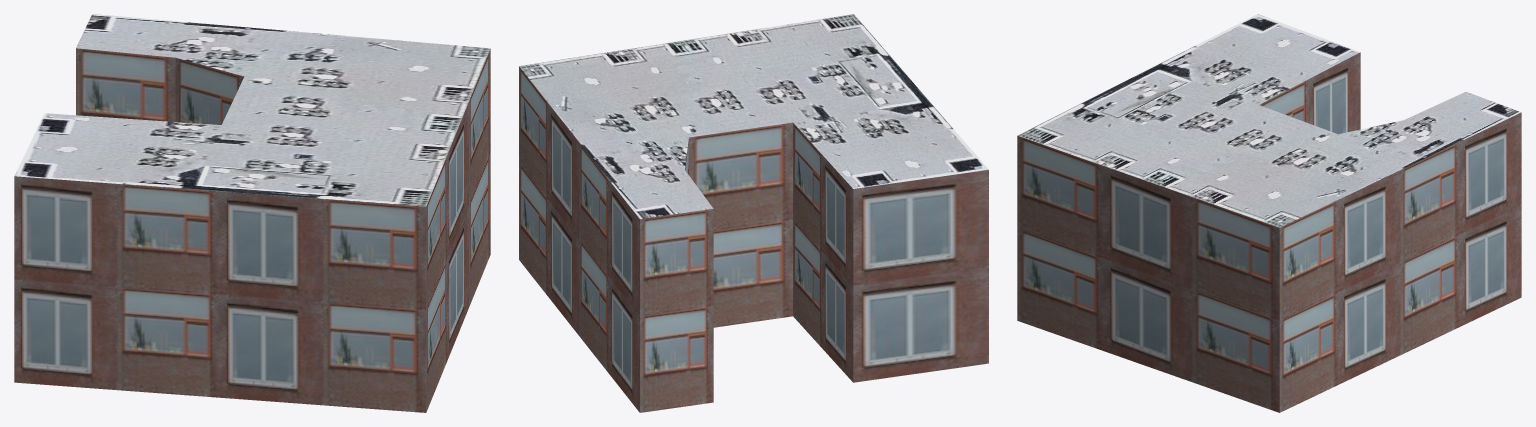
Rendered from ResTex__5294.fbx.
The picture shows the model from 3 angles, left to right: view 1: azimuth 30°, elevation 25°; view 2: azimuth 150°, elevation 25°; view 3: azimuth 270°, elevation 25°; orthographic projection. The views are drawn at different scales.
Parts seen in each view (by area): view 1: CityEngineMaterial_19_m, CityEngineMaterial_4_m; view 2: CityEngineMaterial_19_m, CityEngineMaterial_4_m; view 3: CityEngineMaterial_19_m, CityEngineMaterial_4_m.
Boxes of the visible parts, bbox=[...] form: CityEngineMaterial_19_m: bbox=[14, 48, 490, 412]; CityEngineMaterial_4_m: bbox=[14, 14, 490, 206]; CityEngineMaterial_19_m: bbox=[519, 66, 988, 412]; CityEngineMaterial_4_m: bbox=[519, 14, 988, 219]; CityEngineMaterial_19_m: bbox=[1017, 52, 1521, 412]; CityEngineMaterial_4_m: bbox=[1018, 14, 1520, 227].
Bounding box in the file's own units: 14.86 × 6 × 14.81.
2 materials, 2 textured.
